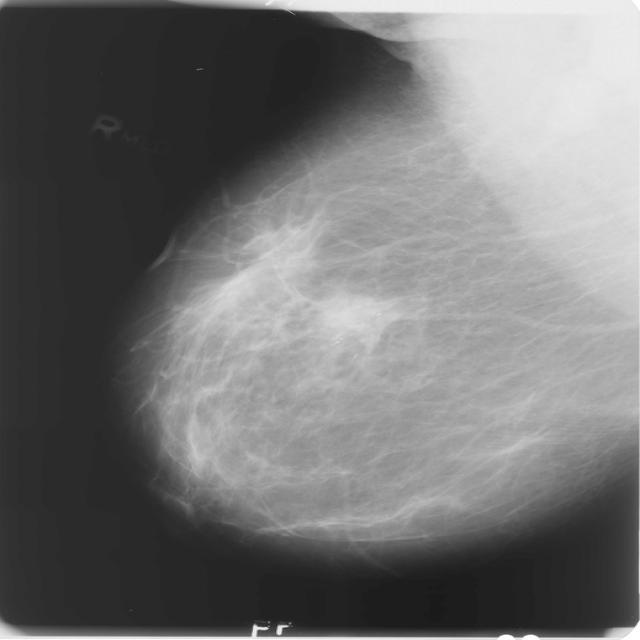tumour: (213, 230, 310, 294), (317, 292, 396, 342)
